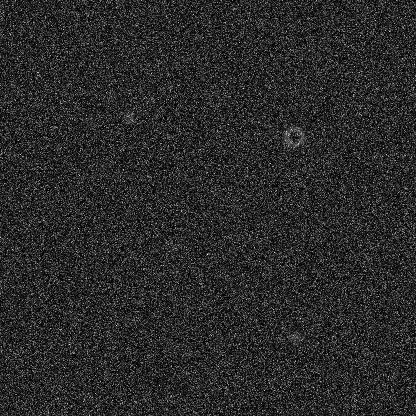Ring: (282, 124, 306, 148)
Spot: (165, 240, 181, 256), (121, 109, 137, 125), (288, 329, 304, 345)
